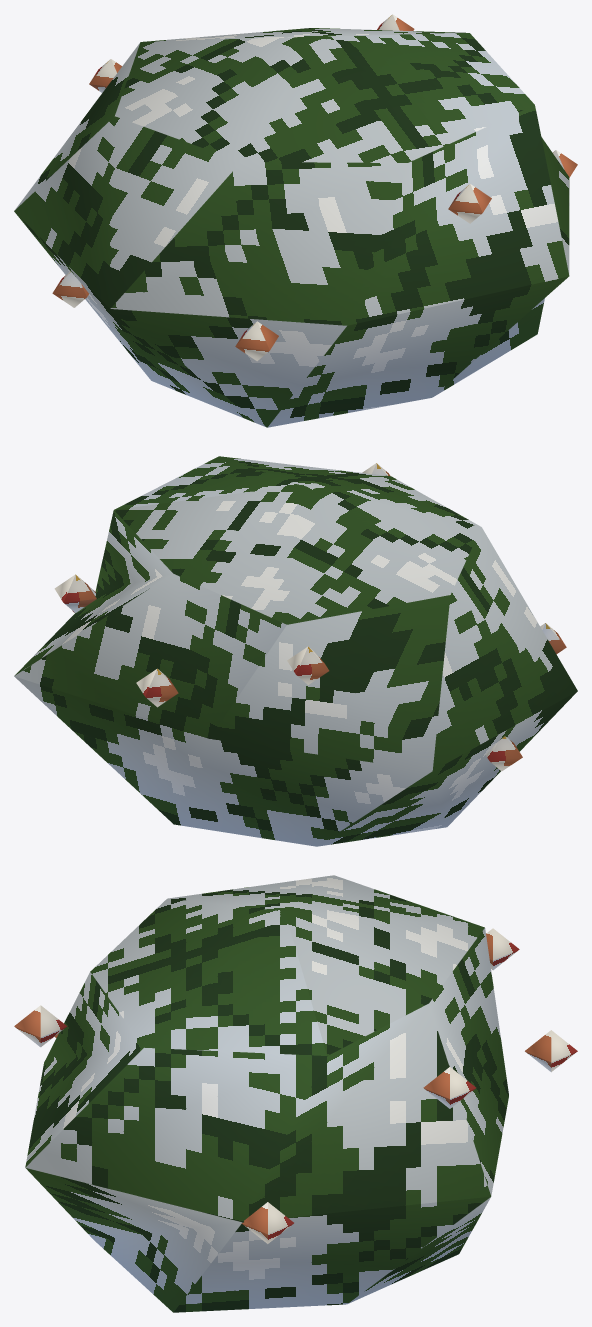
File: mnat.bush__flowering.glb
3 renders of one model, top to bottom at view 1: azimuth 30°, elevation 25°; view 2: azimuth 150°, elevation 25°; view 3: azimuth 270°, elevation 25°, orthographic. The views are drawn at different scales.
Parts seen in each view (by area): view 1: kit_bush, kit_dots; view 2: kit_bush, kit_dots; view 3: kit_bush, kit_dots.
Part boxes in pixels (x1,y1,x2,y2): kit_bush: (14, 28, 569, 427); kit_dots: (52, 14, 577, 361); kit_bush: (14, 456, 577, 846); kit_dots: (54, 463, 566, 771); kit_bush: (25, 875, 508, 1312); kit_dots: (14, 928, 577, 1243).
Bounding box in the file's own units: 1.82 × 1.24 × 1.69.
Materials: 2 (2 with a texture image).
